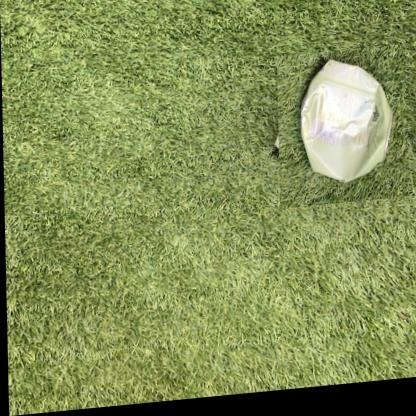trash: (301, 60, 391, 181)
